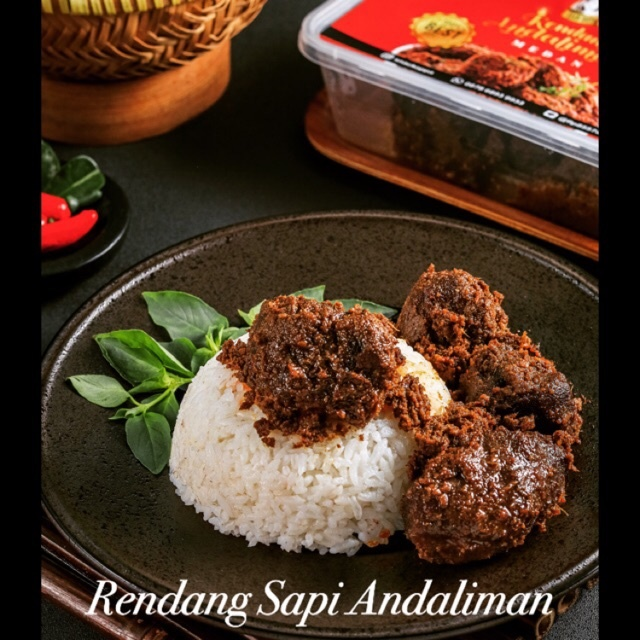rendang: (409, 422, 561, 563), (235, 291, 403, 412)
